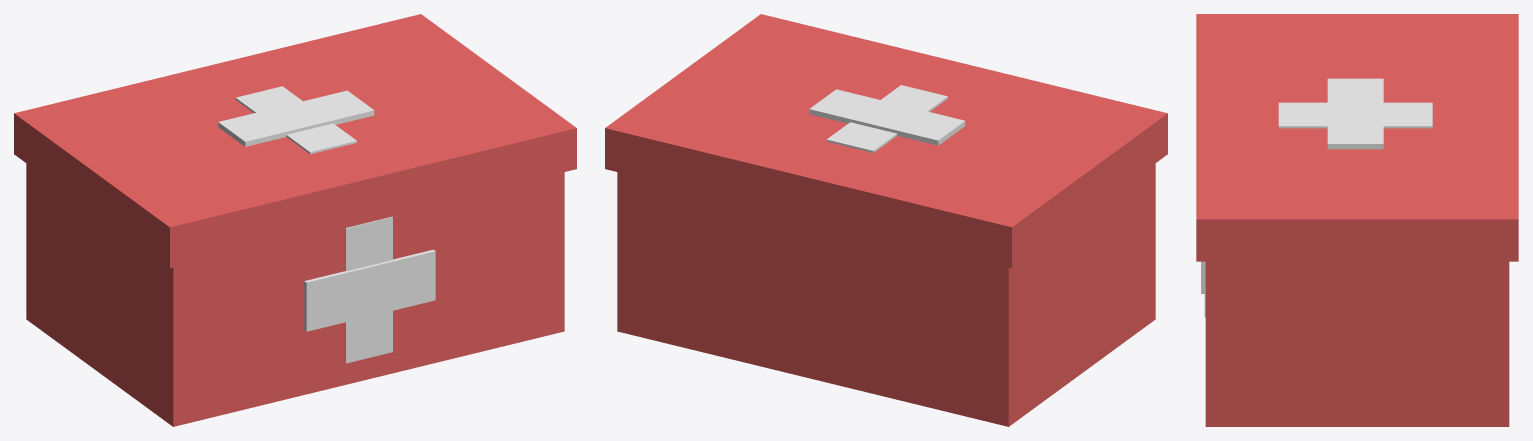
File: 15_medkit.glb
The picture shows the model from 3 angles, left to right: view 1: azimuth 30°, elevation 25°; view 2: azimuth 150°, elevation 25°; view 3: azimuth 270°, elevation 25°; orthographic projection. The views are drawn at different scales.
Visible parts, largest first — view 1: part_2, part_1, part_3, part_3.001, part_4, part_4.001; view 2: part_1, part_2, part_3.001, part_4.001; view 3: part_2, part_1, part_3.001, part_4.001.
Boxes of the visible parts, x1,y1,x2,y2 form: part_2: (14,14,576,268); part_1: (26,163,564,426); part_3: (304,249,435,331); part_3.001: (218,90,374,146); part_4: (345,216,392,363); part_4.001: (235,86,356,154); part_1: (617,163,1155,426); part_2: (605,14,1167,268); part_3.001: (809,89,965,145); part_4.001: (826,85,947,152); part_2: (1196,14,1518,261); part_1: (1205,261,1509,426); part_3.001: (1327,78,1383,149); part_4.001: (1278,102,1432,128).
Size of the model in its own units: 1.04 by 0.5126 by 0.69.
